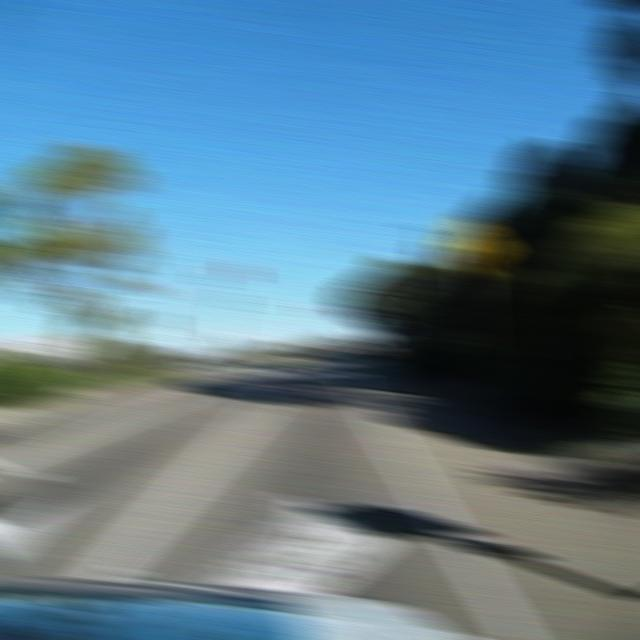pedestrianCrossing: (438, 211, 508, 281)
